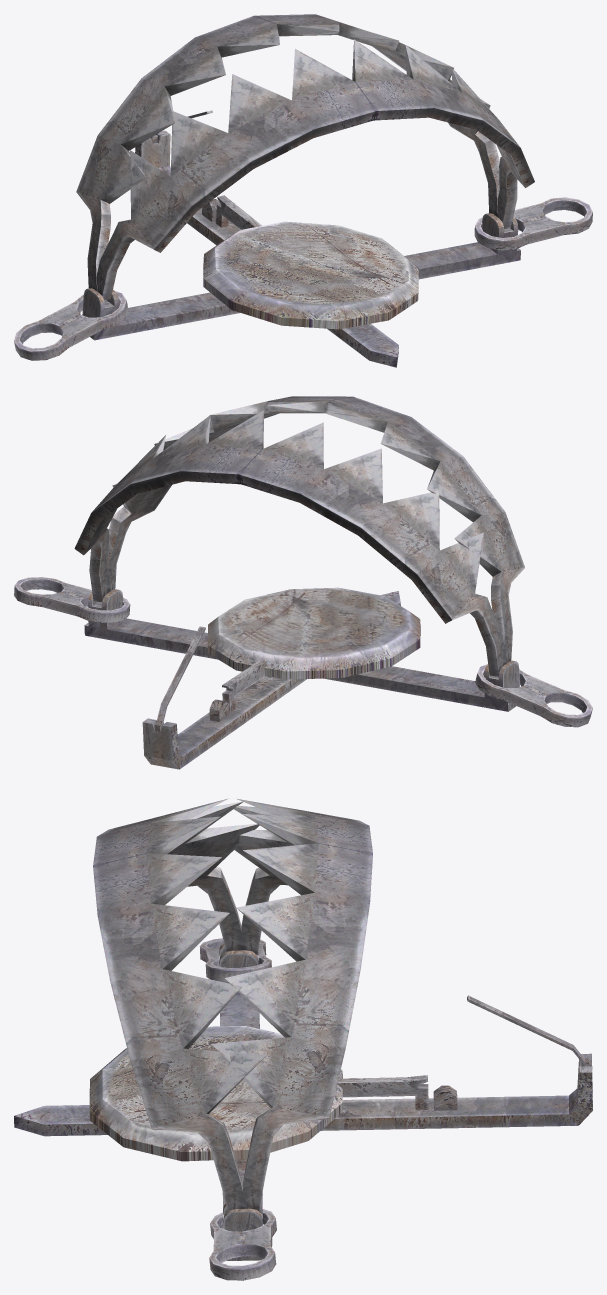
The picture shows the model from 3 angles, top to bottom: view 1: azimuth 30°, elevation 25°; view 2: azimuth 150°, elevation 25°; view 3: azimuth 270°, elevation 25°; orthographic projection. The views are drawn at different scales.
Visible parts, largest first — view 1: Trap_LeftSide, Trap_Center, Trap_RightSide, Trap_Cross, Trap_1, Trap_4; view 2: Trap_RightSide, Trap_Center, Trap_LeftSide, Trap_Cross, Trap_1, Trap_4, Trap_3; view 3: Trap_LeftSide, Trap_RightSide, Trap_Cross, Trap_Center, Trap_1, Trap_4, Trap_3.
Part boxes in pixels (left/top/right/bottom): Trap_LeftSide: left=97, top=39, right=534, bottom=300; Trap_Center: left=203, top=221, right=418, bottom=329; Trap_RightSide: left=76, top=14, right=499, bottom=291; Trap_Cross: left=82, top=130, right=520, bottom=367; Trap_1: left=14, top=197, right=592, bottom=360; Trap_4: left=215, top=195, right=261, bottom=229; Trap_RightSide: left=74, top=410, right=506, bottom=676; Trap_Center: left=207, top=587, right=420, bottom=679; Trap_LeftSide: left=107, top=396, right=524, bottom=662; Trap_Cross: left=84, top=589, right=519, bottom=769; Trap_1: left=14, top=577, right=592, bottom=727; Trap_4: left=222, top=660, right=266, bottom=713; Trap_3: left=157, top=626, right=205, bottom=727; Trap_LeftSide: left=93, top=798, right=266, bottom=1210; Trap_RightSide: left=211, top=798, right=372, bottom=1211; Trap_Cross: left=14, top=943, right=592, bottom=1260; Trap_Center: left=89, top=1026, right=342, bottom=1161; Trap_1: left=199, top=938, right=276, bottom=1280; Trap_4: left=337, top=1075, right=428, bottom=1110; Trap_3: left=467, top=995, right=587, bottom=1066.
Bounding box in the file's own units: 150 × 66.74 × 111.
